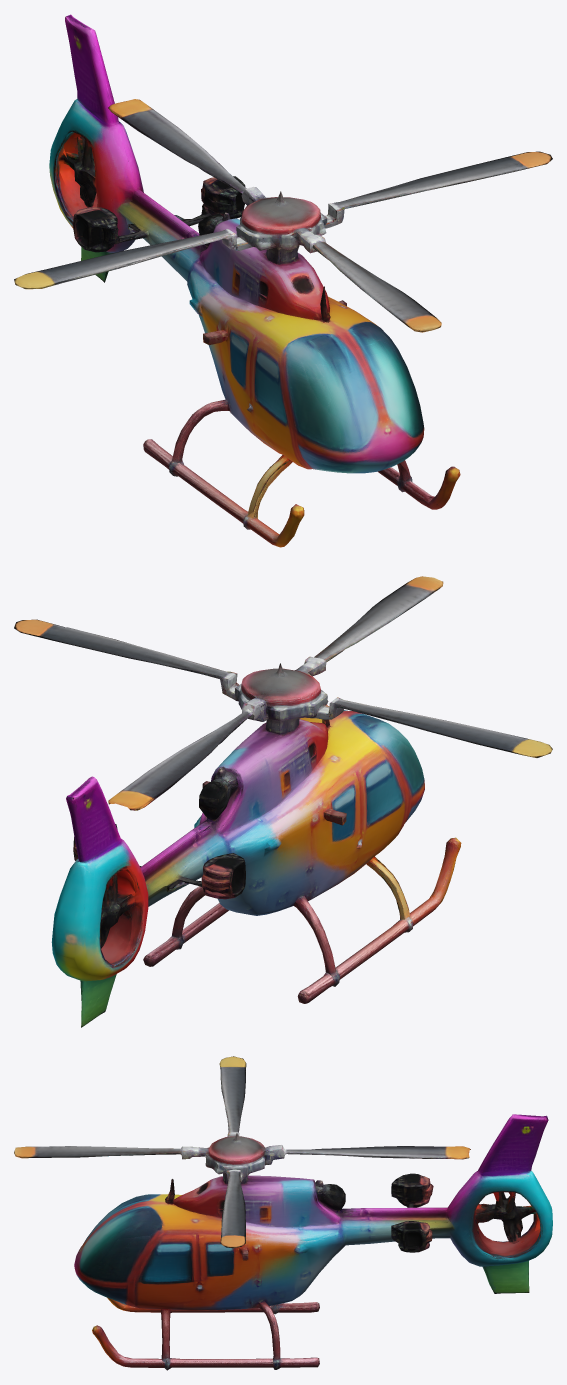
Rendered from ai_car_model.glb.
The picture shows the model from 3 angles, top to bottom: view 1: azimuth 30°, elevation 25°; view 2: azimuth 150°, elevation 25°; view 3: azimuth 270°, elevation 25°; orthographic projection. The views are drawn at different scales.
Parts seen in each view (by area): view 1: world_0; view 2: world_0; view 3: world_0.
Part boxes in pixels (bbox=[...]): world_0: bbox=[14, 14, 552, 547]; world_0: bbox=[14, 576, 552, 1027]; world_0: bbox=[14, 1056, 552, 1370].
Size of the model in its own units: 0.8413 by 0.4662 by 1.
1 material, 1 textured.
